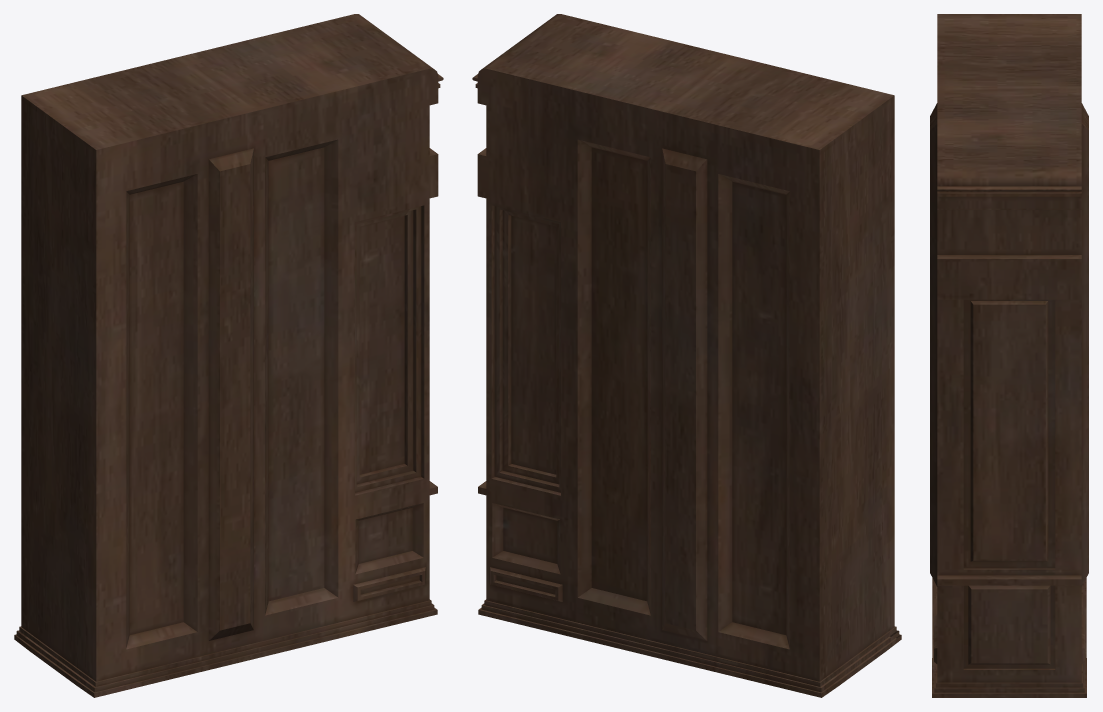
The model's file is wood-pillar.glb.
The picture shows the model from 3 angles, left to right: view 1: azimuth 30°, elevation 25°; view 2: azimuth 150°, elevation 25°; view 3: azimuth 270°, elevation 25°; orthographic projection. The views are drawn at different scales.
Visible parts, largest first — view 1: Object_0; view 2: Object_0; view 3: Object_0.
Boxes of the visible parts, box(x1,y1,x2,y2) form: Object_0: box(14, 14, 443, 697); Object_0: box(472, 14, 901, 697); Object_0: box(930, 14, 1088, 697).
Bounding box in the file's own units: 1.62 × 2.4 × 0.6587.
1 material, 1 textured.
